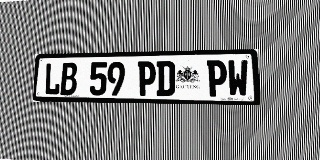5: (90, 62, 107, 96)
9: (107, 62, 125, 96)
B: (60, 62, 78, 95)
D: (156, 61, 175, 96)
L: (44, 63, 61, 95)
P: (207, 60, 227, 97), (137, 61, 156, 96)
W: (227, 60, 249, 97)
